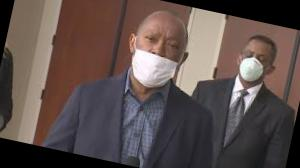mask_weared_incorrect: (129, 20, 186, 92)
with_mask: (236, 46, 269, 85)
